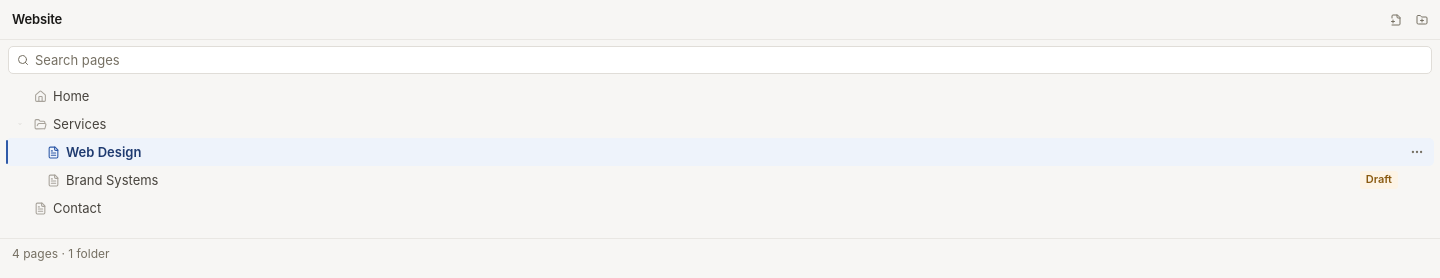
Test: website explorer › opens and closes a folder when the folder row is clicked, and nothing else
Expected: the text "Web Design" is shown, [66,144,141,160]
Click the button "Services" at point(80, 124), box [34,110,1398,138]
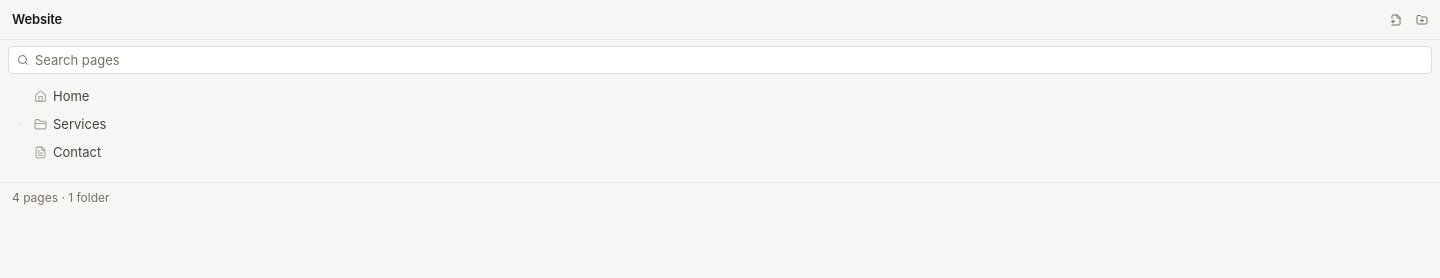
Now the button "Web Design" is gone
Click the button "Services" at point(80, 124), box [34,110,1398,138]
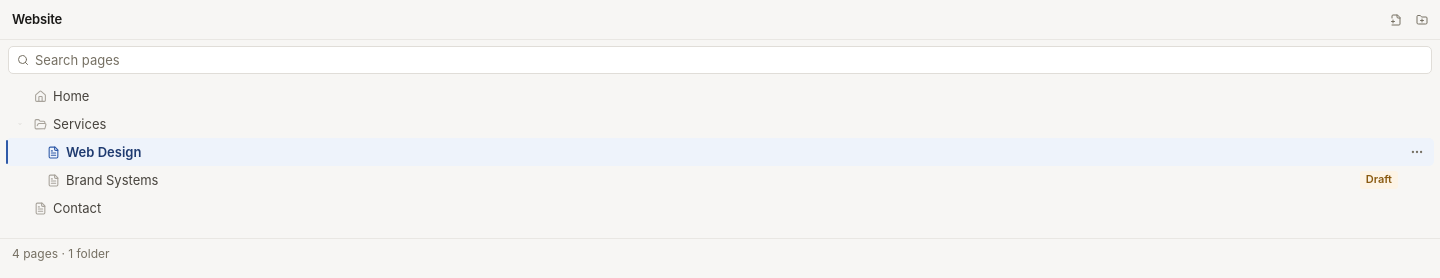
Now the text "Web Design" is shown, box [66,144,141,160]
